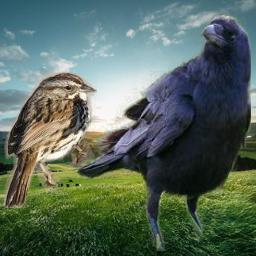Crow: (76, 14, 251, 251)
Sparrow: (4, 70, 97, 208)
